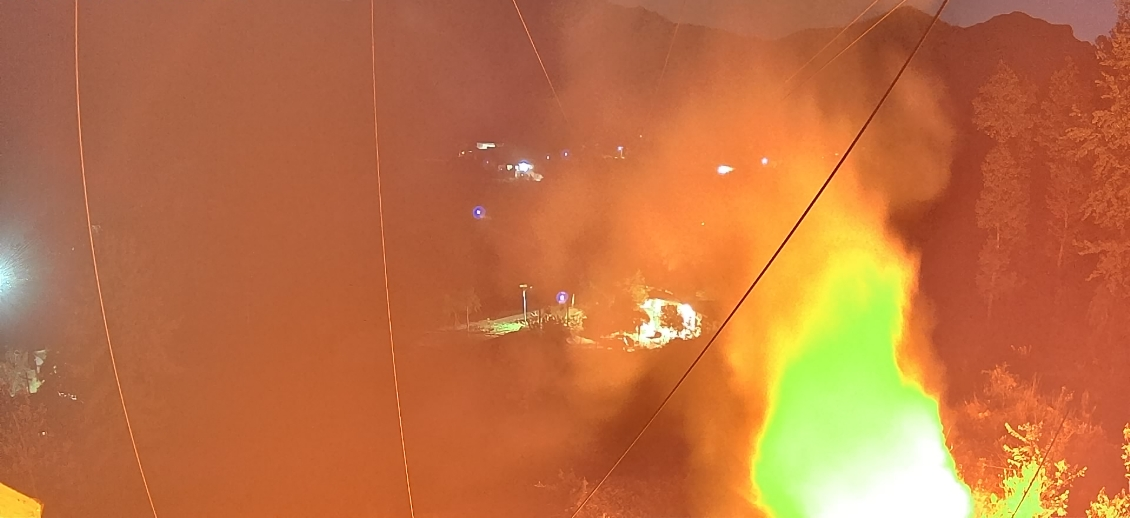山火: (750, 223, 976, 517)
烟雾: (0, 0, 1129, 517)
